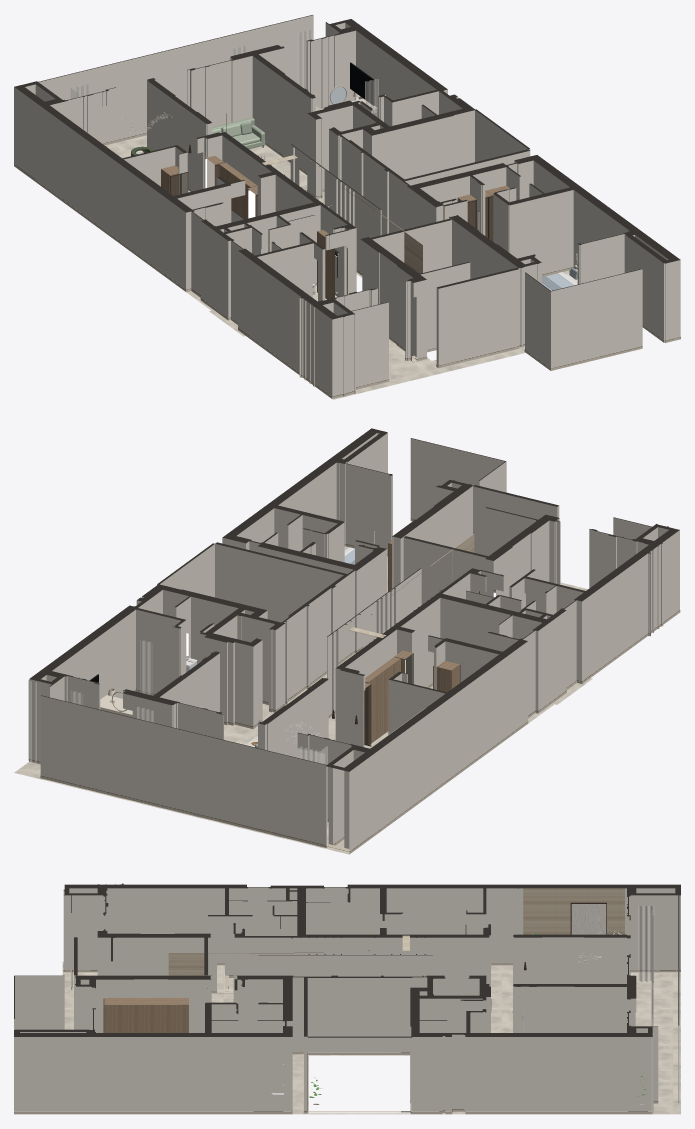
Rendered from ff_house_v20.glb.
The picture shows the model from 3 angles, top to bottom: view 1: azimuth 30°, elevation 25°; view 2: azimuth 150°, elevation 25°; view 3: azimuth 270°, elevation 25°; orthographic projection. The views are drawn at different scales.
Parts seen in each view (by area): view 1: MeshStandardMaterial_14, MeshStandardMaterial_15, MeshStandardMaterial_1, MeshStandardMaterial_7, MeshStandardMaterial_16, MeshStandardMaterial_104, MeshStandardMaterial_87, MeshStandardMaterial_5, MeshStandardMaterial_96; view 2: MeshStandardMaterial_14, MeshStandardMaterial_15, MeshStandardMaterial_7, MeshStandardMaterial_16, MeshStandardMaterial_1, MeshStandardMaterial_104, MeshStandardMaterial_87; view 3: MeshStandardMaterial_14, MeshStandardMaterial_15, MeshStandardMaterial_1, MeshStandardMaterial_5, MeshStandardMaterial_16, MeshStandardMaterial_7, MeshStandardMaterial_104, MeshStandardMaterial_91.
Boxes of the visible parts, x1,y1,x2,y2 form: MeshStandardMaterial_14: (14, 15, 680, 396); MeshStandardMaterial_15: (14, 15, 680, 319); MeshStandardMaterial_1: (105, 135, 569, 399); MeshStandardMaterial_7: (161, 155, 509, 299); MeshStandardMaterial_16: (14, 133, 680, 398); MeshStandardMaterial_104: (70, 30, 378, 117); MeshStandardMaterial_87: (170, 165, 493, 294); MeshStandardMaterial_5: (51, 106, 422, 273); MeshStandardMaterial_96: (350, 63, 373, 104); MeshStandardMaterial_14: (29, 432, 679, 853); MeshStandardMaterial_15: (29, 428, 679, 771); MeshStandardMaterial_7: (364, 540, 478, 744); MeshStandardMaterial_16: (29, 518, 680, 853); MeshStandardMaterial_1: (14, 546, 680, 854); MeshStandardMaterial_104: (28, 639, 327, 827); MeshStandardMaterial_87: (364, 592, 479, 745); MeshStandardMaterial_14: (14, 887, 680, 1111); MeshStandardMaterial_15: (14, 883, 680, 1037); MeshStandardMaterial_1: (62, 961, 680, 1114); MeshStandardMaterial_5: (168, 888, 624, 975); MeshStandardMaterial_16: (14, 963, 680, 1114); MeshStandardMaterial_7: (104, 932, 402, 1032); MeshStandardMaterial_104: (522, 905, 654, 1113); MeshStandardMaterial_91: (571, 904, 606, 934).
Size of the model in its own units: 12.9 by 3.02 by 23.57.
103 materials, 16 textured.
